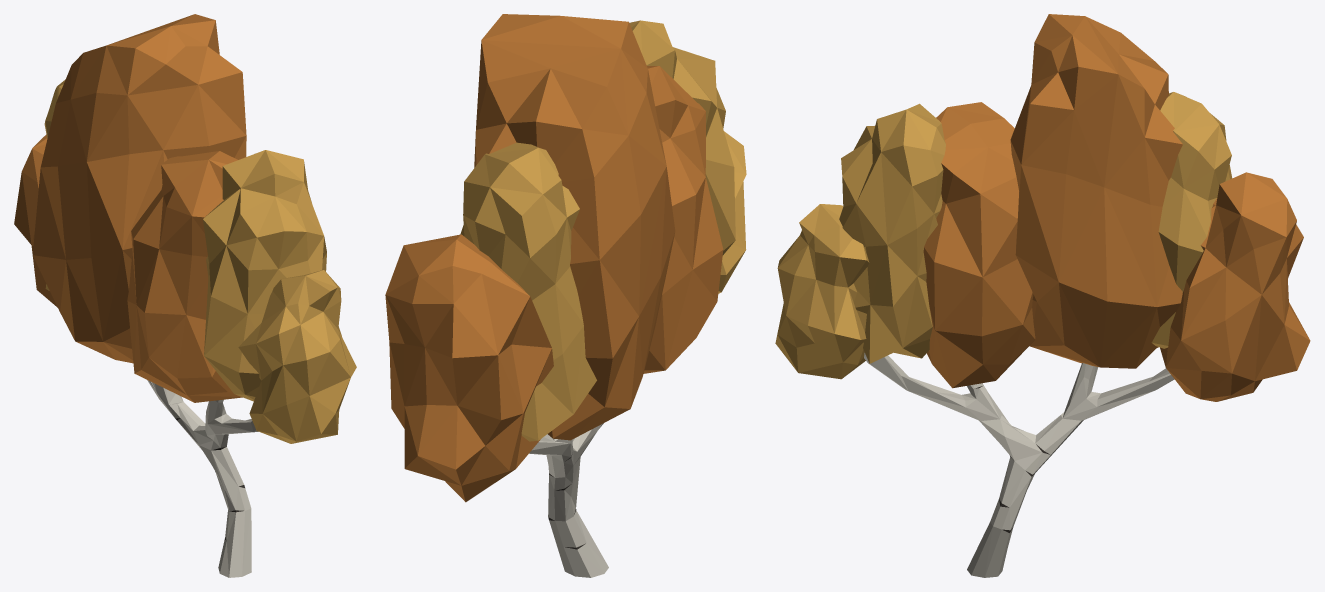
Rendered from BirchTree_Autumn_4.glb.
The picture shows the model from 3 angles, left to right: view 1: azimuth 30°, elevation 25°; view 2: azimuth 150°, elevation 25°; view 3: azimuth 270°, elevation 25°; orthographic projection. The views are drawn at different scales.
Visible parts, largest first — view 1: BirchTree_Autumn_4; view 2: BirchTree_Autumn_4; view 3: BirchTree_Autumn_4.
Boxes of the visible parts, box(x1,y1,x2,y2) form: BirchTree_Autumn_4: box(14, 14, 356, 577); BirchTree_Autumn_4: box(385, 14, 746, 577); BirchTree_Autumn_4: box(775, 14, 1310, 577).
Bounding box in the file's own units: 1.15 × 3.56 × 3.29.
